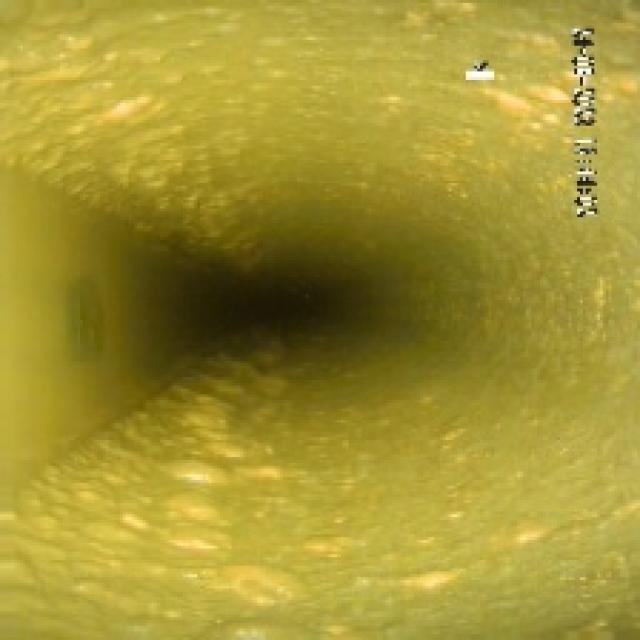encrustation: (9, 11, 552, 223), (86, 368, 528, 612)
